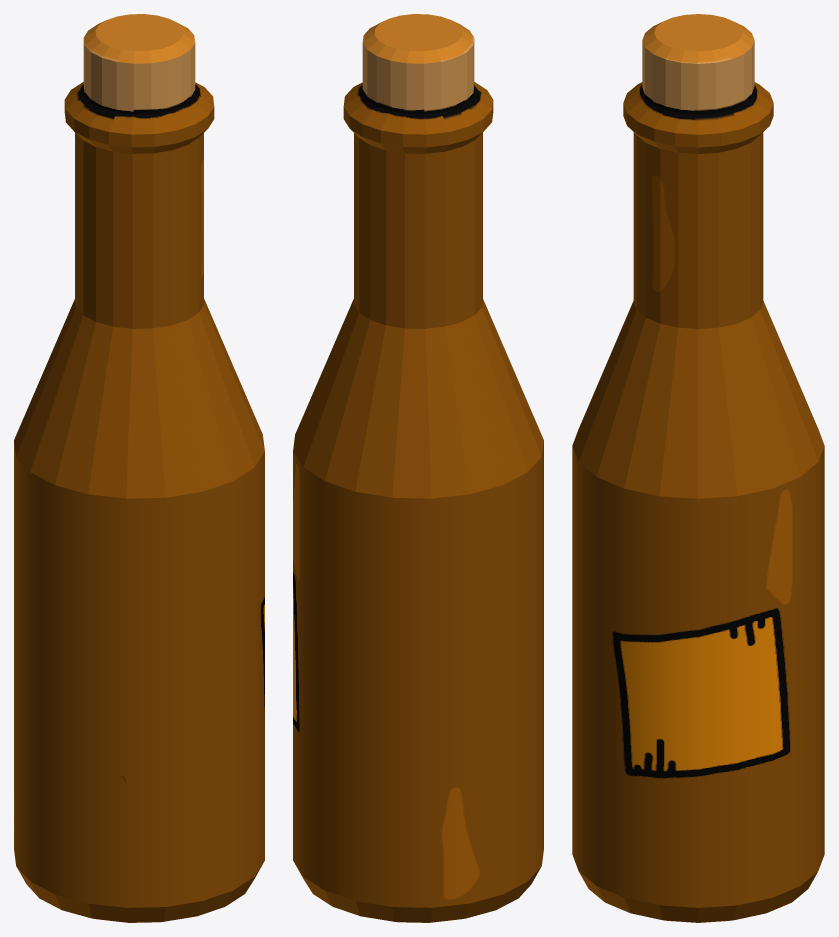
Rendered from beerbottle.fbx.
3 views of the same model, side by side, from view 1: azimuth 30°, elevation 25°; view 2: azimuth 150°, elevation 25°; view 3: azimuth 270°, elevation 25° (orthographic).
Visible parts, largest first — view 1: pCylinder1; view 2: pCylinder1; view 3: pCylinder1.
Boxes of the visible parts, left/top/right/bottom form: pCylinder1: left=14, top=14, right=264, bottom=922; pCylinder1: left=293, top=14, right=543, bottom=922; pCylinder1: left=572, top=14, right=824, bottom=922.
Size of the model in its own units: 2 by 7.43 by 2.
